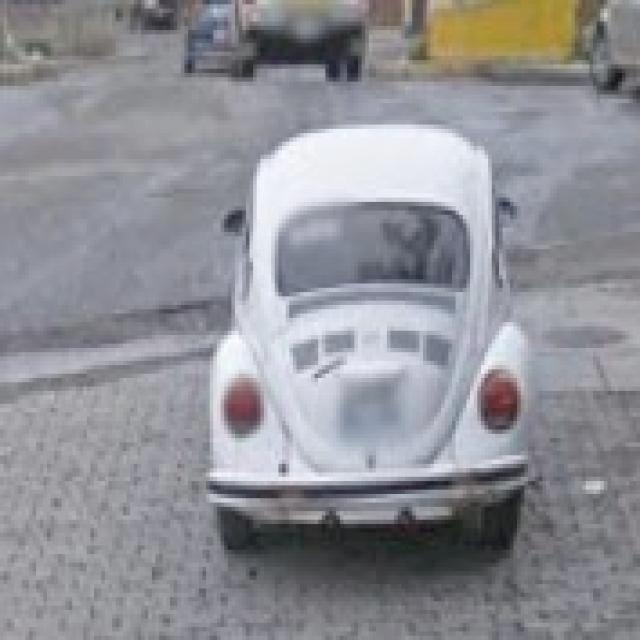car: (212, 126, 542, 566)
